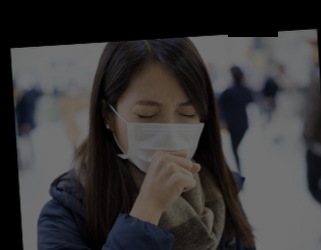with_mask: (117, 95, 205, 173)
